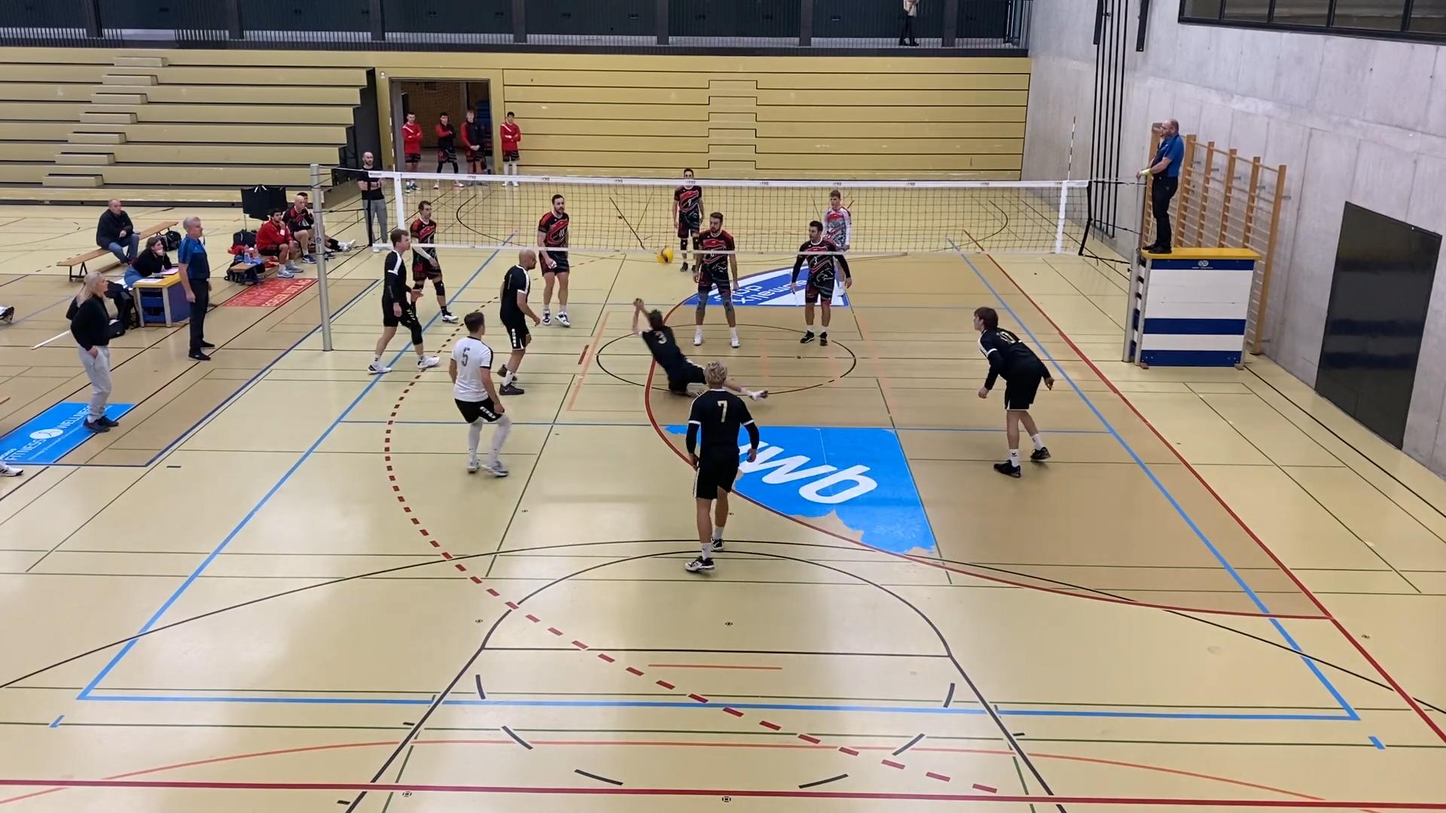Dig: (629, 295, 775, 409)
Player: (685, 361, 759, 571), (973, 306, 1053, 477), (368, 228, 439, 373), (449, 311, 511, 477), (791, 221, 851, 345), (693, 212, 739, 348), (497, 248, 539, 394), (409, 200, 457, 322), (537, 193, 569, 327), (672, 169, 701, 271), (821, 190, 850, 251)
ball: (657, 245, 677, 262)
